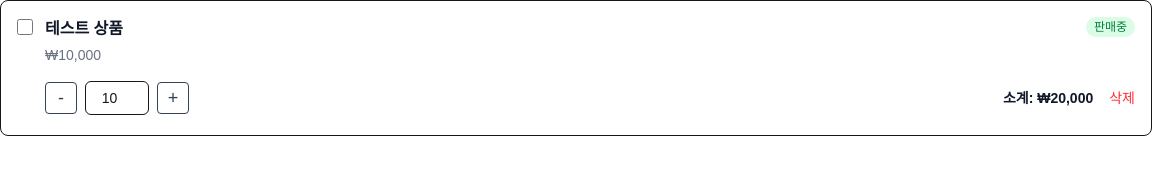
Scenario: CartItemRow › 주문 상한(10개) 초과 시 에러 메시지가 표시되고 10으로 클램프된다
Click the button named "수량 증가": (173, 98) [157,82,189,114]
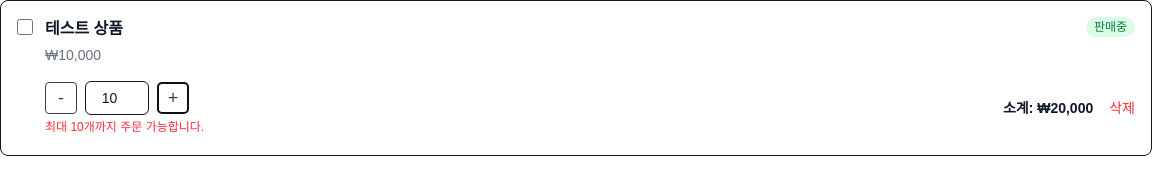
Expected: the number field named "수량" holds "10", [85,81,149,115]
Expected: the text "최대 10개까지 주문 가능합니다." is shown, [45,119,204,135]
